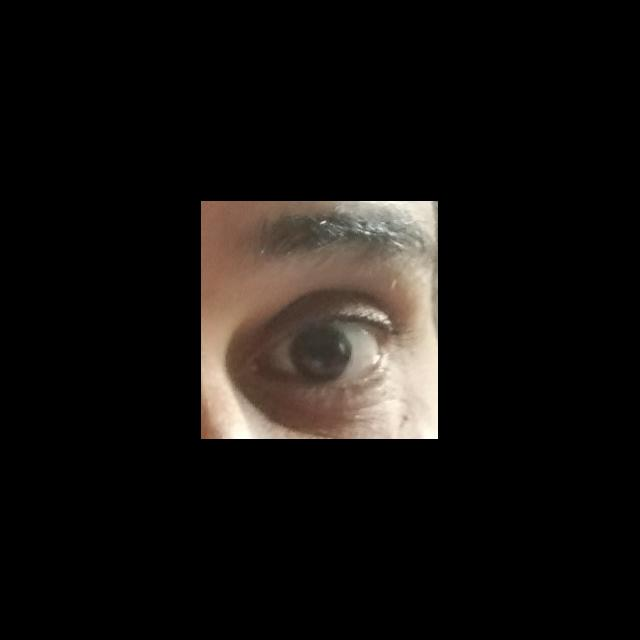eye: (266, 318, 382, 385)
iris: (290, 326, 352, 382)
